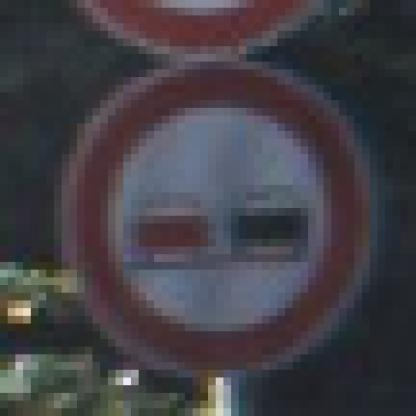No Overtaking: (40, 39, 379, 371)
